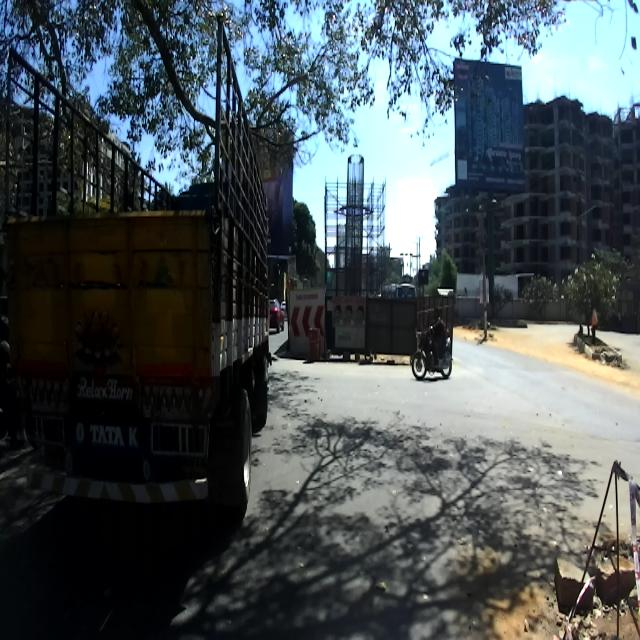barrier ahead at: (286, 289, 419, 376)
motorcycle ahead at: (410, 324, 453, 381)
truck ahead at: (7, 9, 274, 564)
